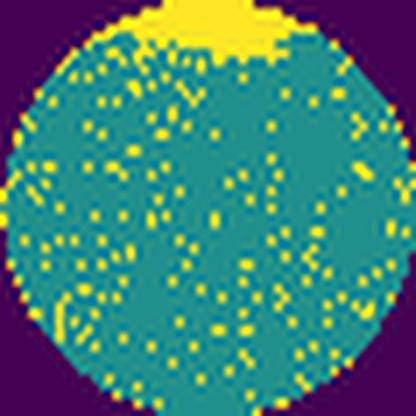Edge-Loc: (86, 0, 316, 61)
